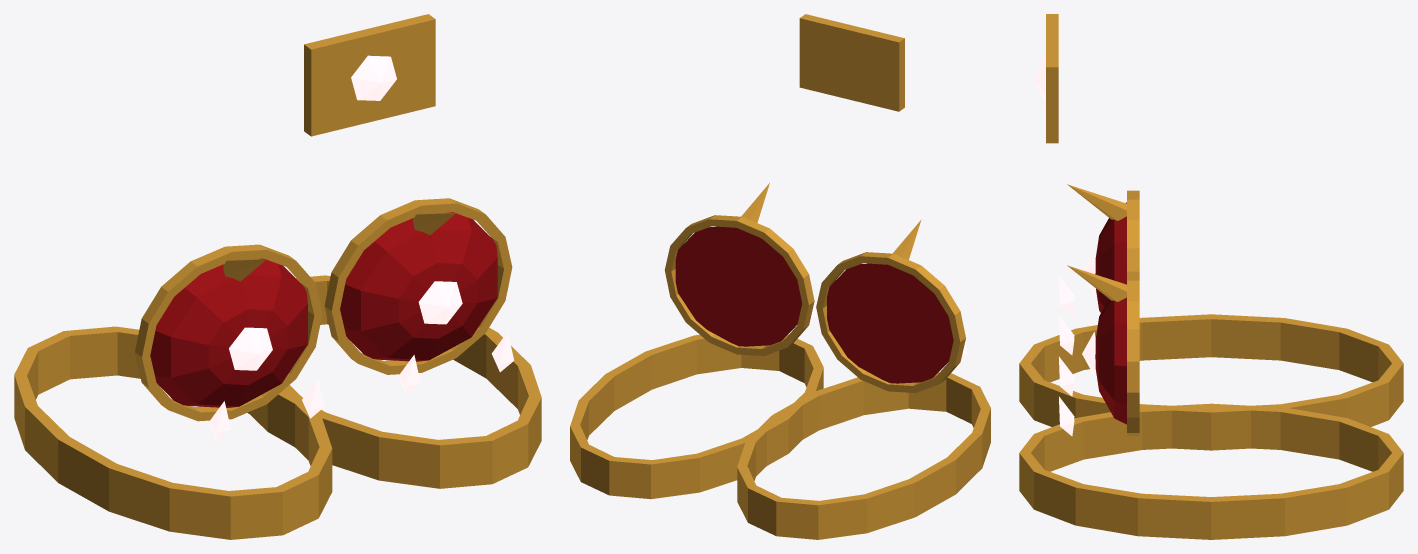
File: armor_lord_legs_mythic_human.glb
3 renders of one model, left to right at view 1: azimuth 30°, elevation 25°; view 2: azimuth 150°, elevation 25°; view 3: azimuth 270°, elevation 25°, orthographic. The views are drawn at different scales.
Parts seen in each view (by area): view 1: armor_lord_legs_mythic_human__calf_r, armor_lord_legs_mythic_human__calf_l, armor_lord_legs_mythic_human__pelvis; view 2: armor_lord_legs_mythic_human__calf_r, armor_lord_legs_mythic_human__calf_l, armor_lord_legs_mythic_human__pelvis; view 3: armor_lord_legs_mythic_human__calf_l, armor_lord_legs_mythic_human__calf_r, armor_lord_legs_mythic_human__pelvis.
Boxes of the visible parts, left/top/right/bottom form: armor_lord_legs_mythic_human__calf_r: left=14, top=244, right=332, bottom=539; armor_lord_legs_mythic_human__calf_l: left=249, top=198, right=541, bottom=488; armor_lord_legs_mythic_human__pelvis: left=304, top=14, right=435, bottom=136; armor_lord_legs_mythic_human__calf_r: left=737, top=219, right=990, bottom=539; armor_lord_legs_mythic_human__calf_l: left=570, top=183, right=823, bottom=499; armor_lord_legs_mythic_human__pelvis: left=799, top=14, right=904, bottom=111; armor_lord_legs_mythic_human__calf_l: left=1019, top=265, right=1403, bottom=539; armor_lord_legs_mythic_human__calf_r: left=1019, top=184, right=1403, bottom=450; armor_lord_legs_mythic_human__pelvis: left=1033, top=14, right=1058, bottom=143.
Bounding box in the file's own units: 42.33 × 42.7 × 36.64.
